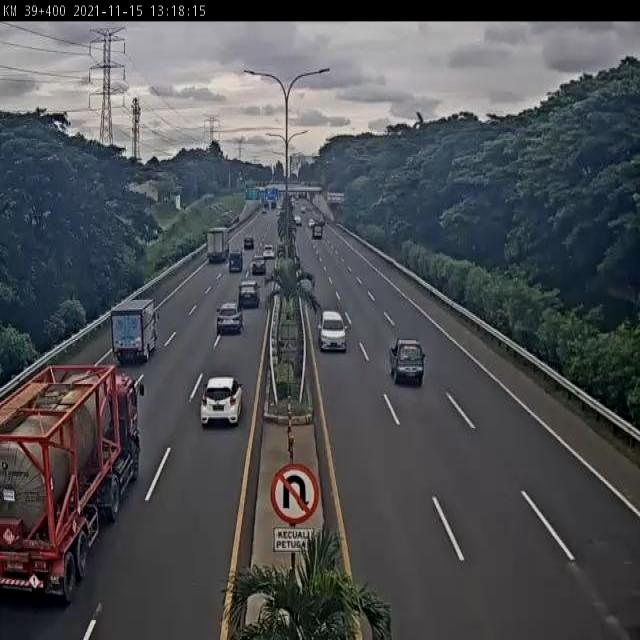Car: (200, 374, 244, 426), (389, 338, 426, 386), (317, 310, 347, 352), (216, 302, 244, 334), (238, 280, 260, 308), (228, 250, 243, 272), (299, 270, 315, 290), (251, 256, 266, 275), (309, 292, 320, 317), (312, 221, 324, 239), (262, 245, 275, 261), (327, 197, 341, 209), (276, 242, 286, 258), (293, 253, 301, 270), (244, 237, 254, 249), (230, 214, 240, 226), (288, 193, 298, 203), (325, 191, 335, 200), (294, 216, 302, 227), (310, 187, 322, 194), (254, 244, 262, 253), (258, 198, 265, 208), (308, 218, 315, 228), (258, 253, 265, 263), (296, 268, 302, 279), (299, 193, 307, 201), (278, 204, 284, 214), (270, 200, 276, 209), (320, 218, 326, 227), (261, 207, 267, 214), (309, 193, 315, 200), (301, 206, 306, 214)
Truck: (1, 361, 140, 606), (112, 296, 159, 365), (207, 227, 229, 264)
